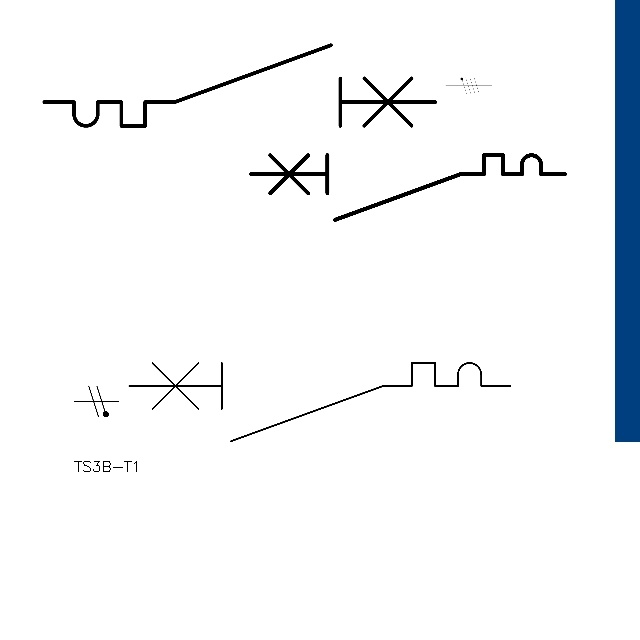interruptor_termomagnetico: (34, 35, 446, 136), (119, 353, 520, 451), (243, 147, 573, 228)
